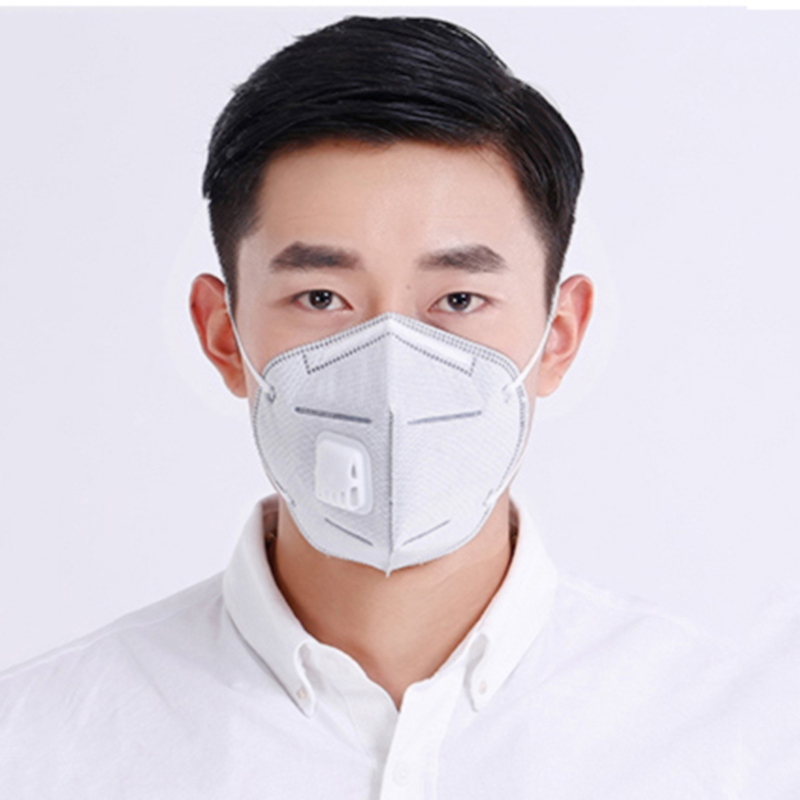face_mask: (243, 135, 541, 549)
